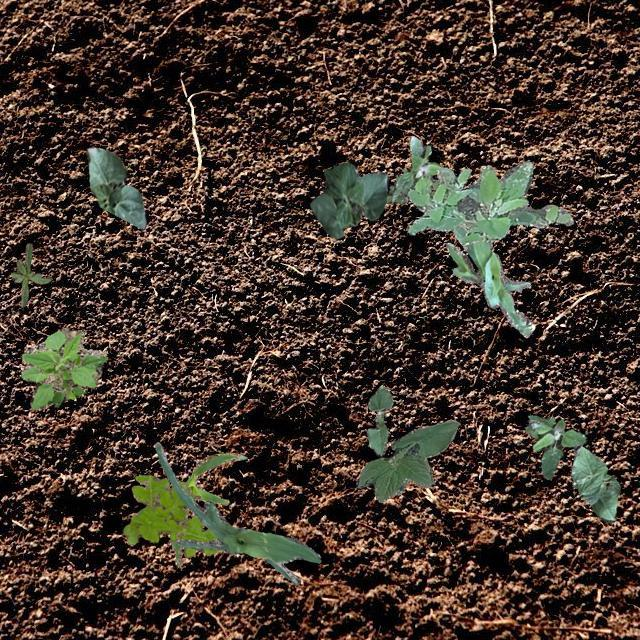crop: (153, 442, 320, 584), (446, 226, 534, 336), (170, 452, 246, 568), (354, 419, 458, 502), (310, 162, 388, 238), (86, 146, 144, 228), (570, 444, 620, 522), (366, 386, 392, 454)
weed: (406, 158, 572, 244), (122, 474, 220, 556), (20, 326, 106, 408), (524, 413, 586, 478), (384, 136, 442, 203), (10, 242, 50, 306)
